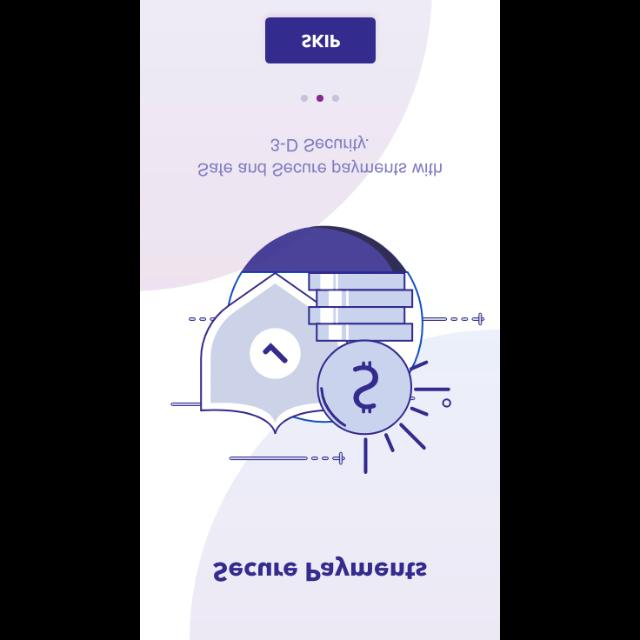image: (171, 226, 485, 474)
pageindicator: (300, 94, 340, 102)
text: (198, 135, 442, 177), (214, 555, 426, 581)
textbutton: (266, 17, 376, 63)
